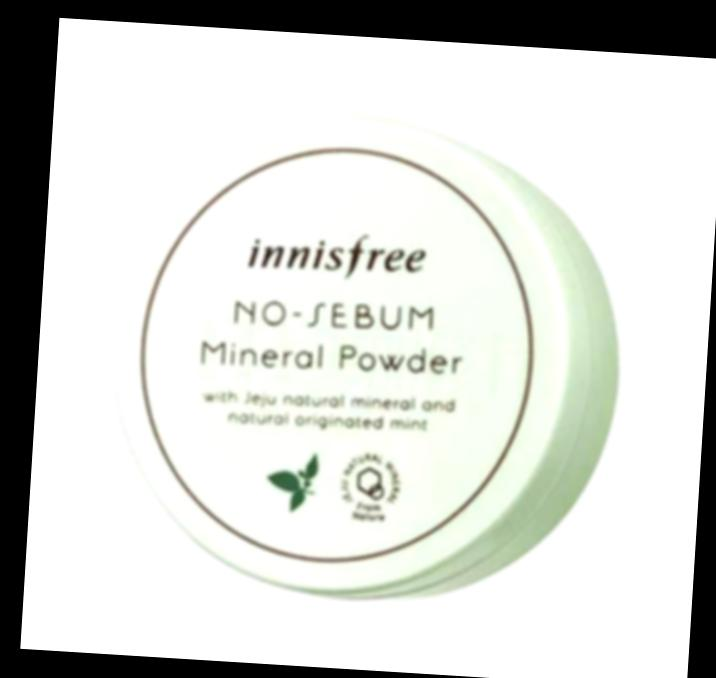cosmetic: (107, 109, 622, 605)
